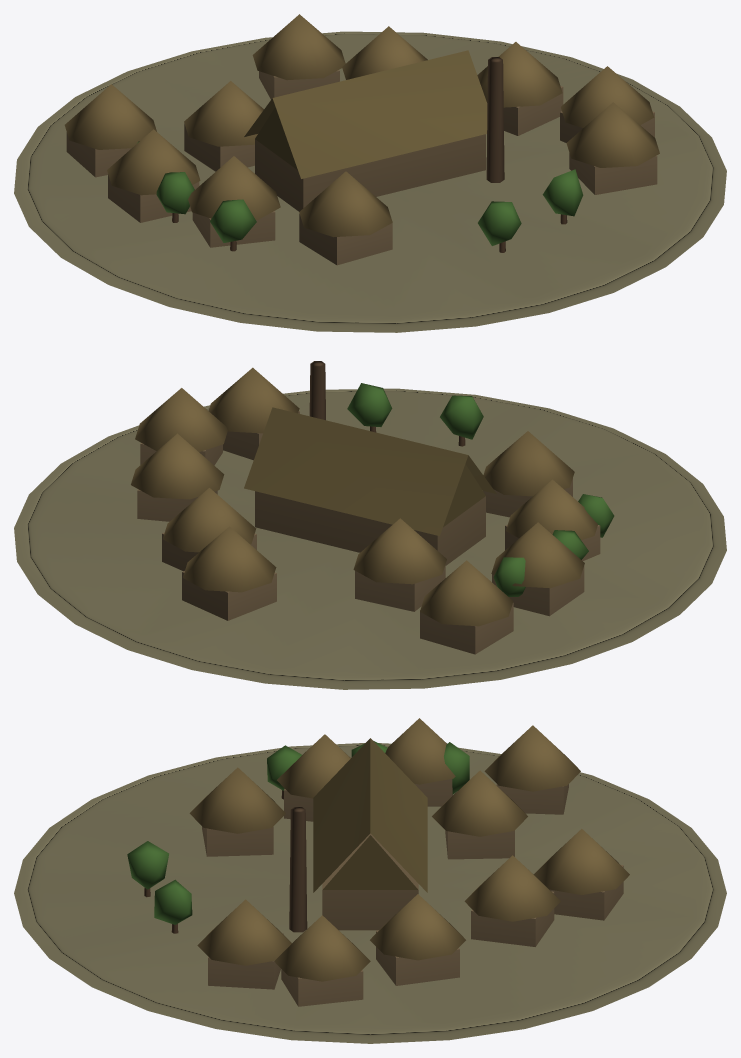
The model's file is settlement_2_0.glb.
3 views of the same model, one above another, from view 1: azimuth 30°, elevation 25°; view 2: azimuth 150°, elevation 25°; view 3: azimuth 270°, elevation 25° (orthographic).
Visible parts, largest first — view 1: part_0; view 2: part_0; view 3: part_0.
Boxes of the visible parts, x1=… form: part_0: x1=14, y1=14, x2=726, y2=332; part_0: x1=14, y1=361, x2=726, y2=689; part_0: x1=14, y1=718, x2=726, y2=1043.
Bounding box in the file's own units: 30.8 × 6.04 × 30.8.
